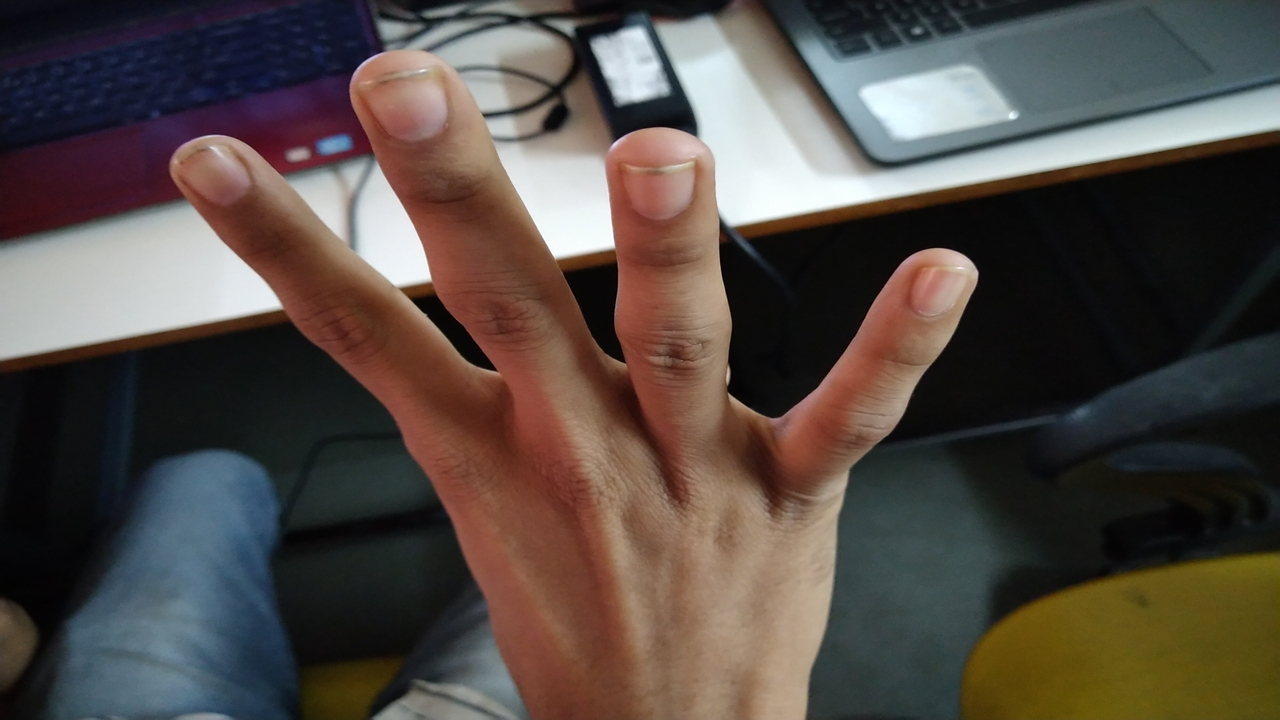fingertip: (593, 115, 718, 231), (339, 54, 474, 150), (146, 130, 283, 223), (894, 234, 988, 333)
